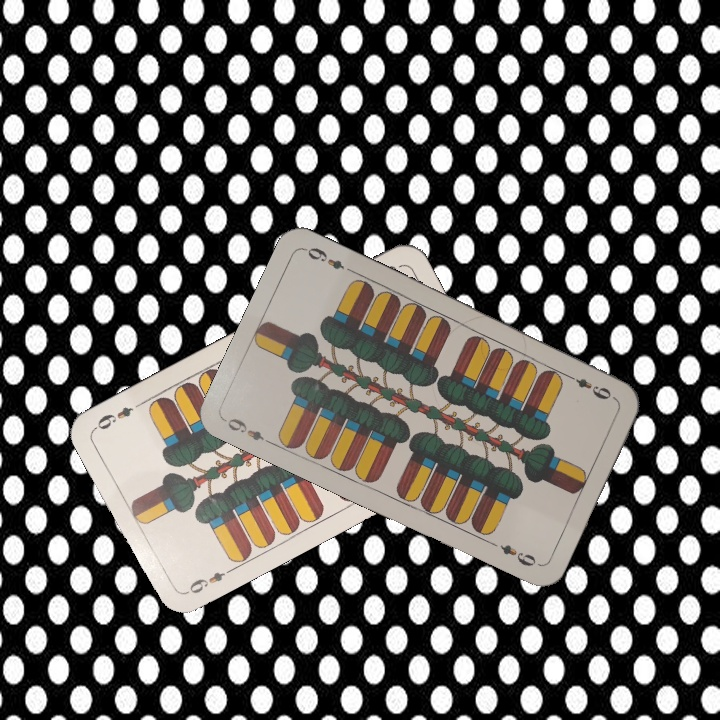E9: (180, 564, 235, 598), (221, 414, 276, 448), (562, 370, 618, 403)
